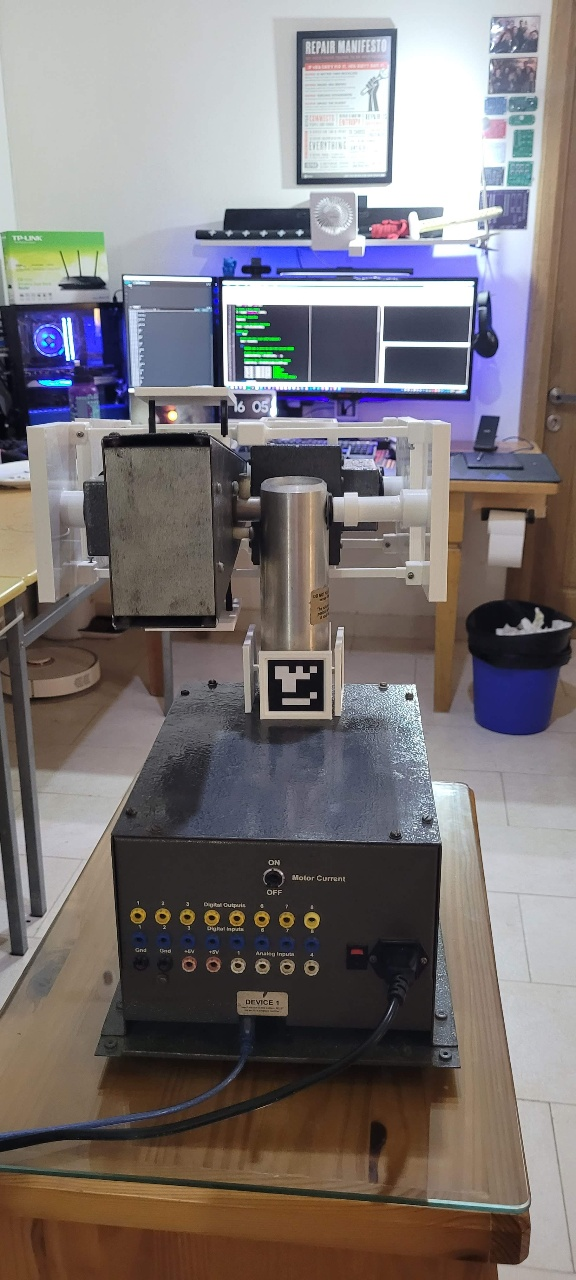Robot: (135, 196, 467, 776)
